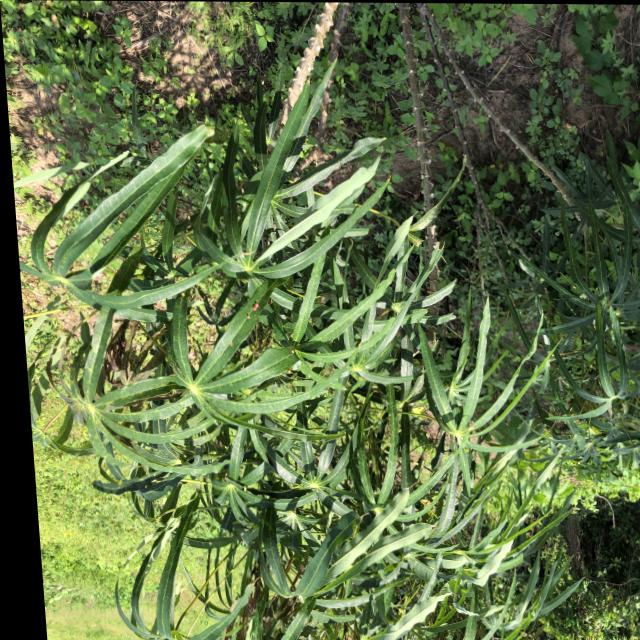Mosca: (236, 306, 258, 326), (234, 383, 253, 398), (249, 299, 265, 316), (538, 272, 551, 289), (204, 534, 215, 552)
